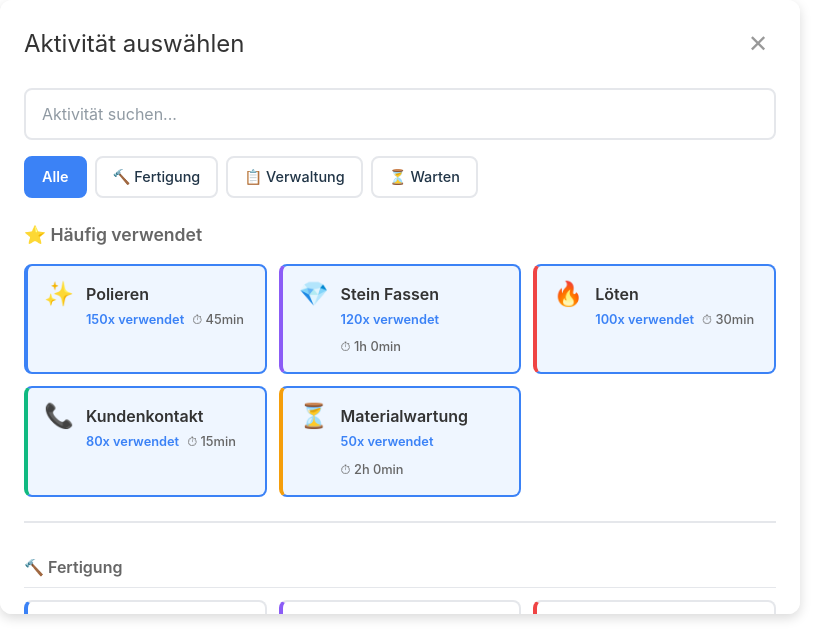
ActivityPicker › Search Functionality › should show no results message when search has no matches
Expected: the text "Polieren" is shown, [86,284,149,304]
Type "NonexistentActivity123" into the field with placeholder "Aktivität suchen..." at (400, 114), box [24,88,776,140]
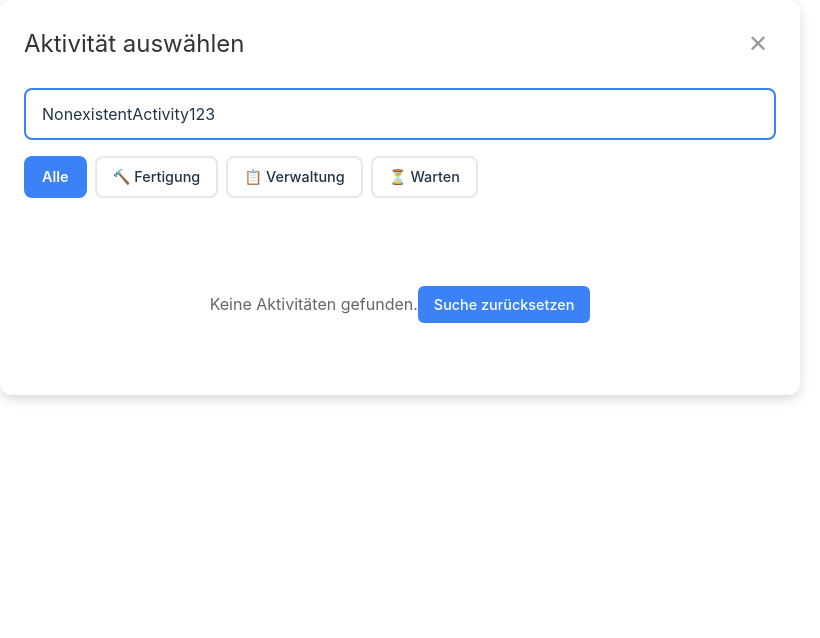
Expected: the text "Keine Aktivitäten gefunden. Suche zurücksetzen" is shown, [210,286,590,323]
